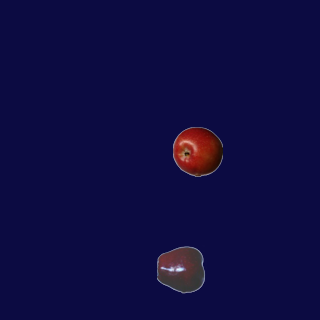Apple Braeburn: (172, 126, 222, 176)
Apple Red Delicious: (156, 244, 206, 294)
